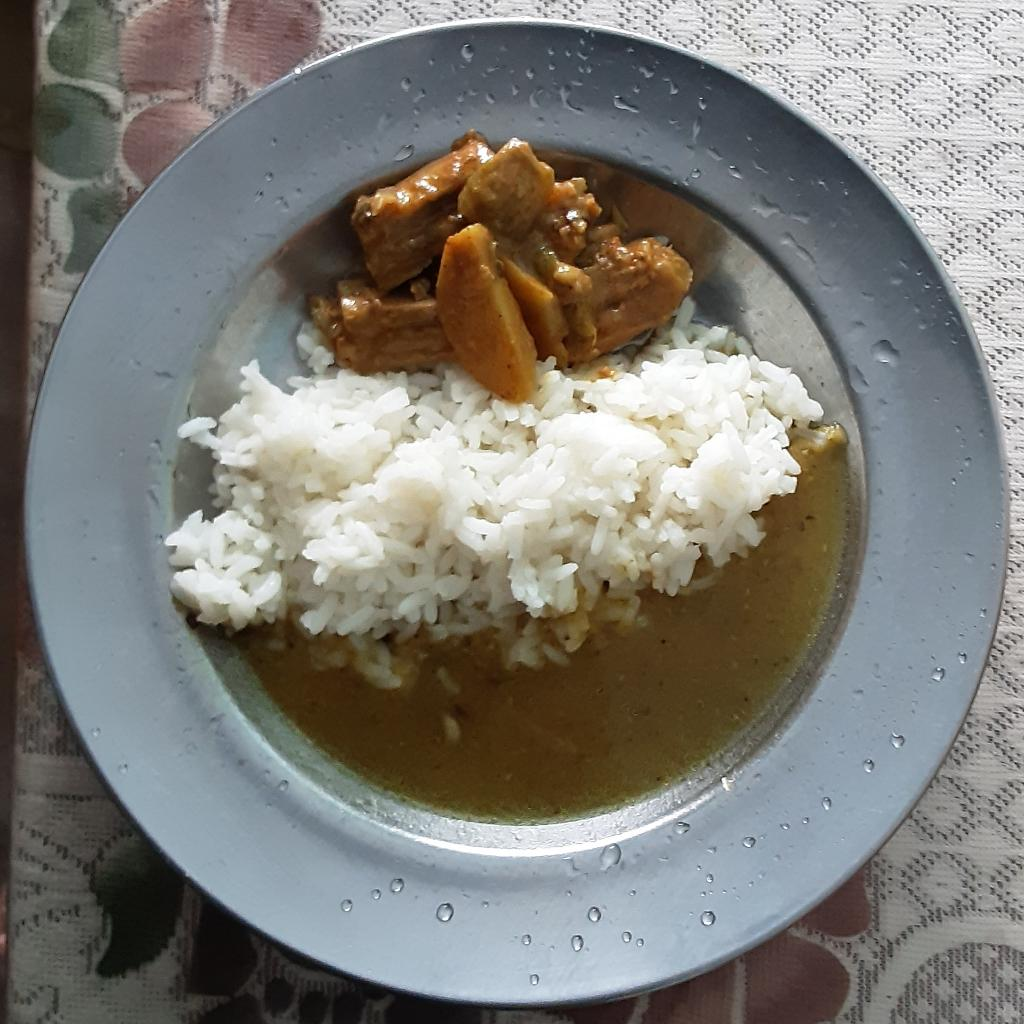daal: (234, 425, 853, 830)
fish: (310, 134, 498, 380)
rice: (165, 297, 829, 688)
vegetable: (424, 129, 696, 406)
